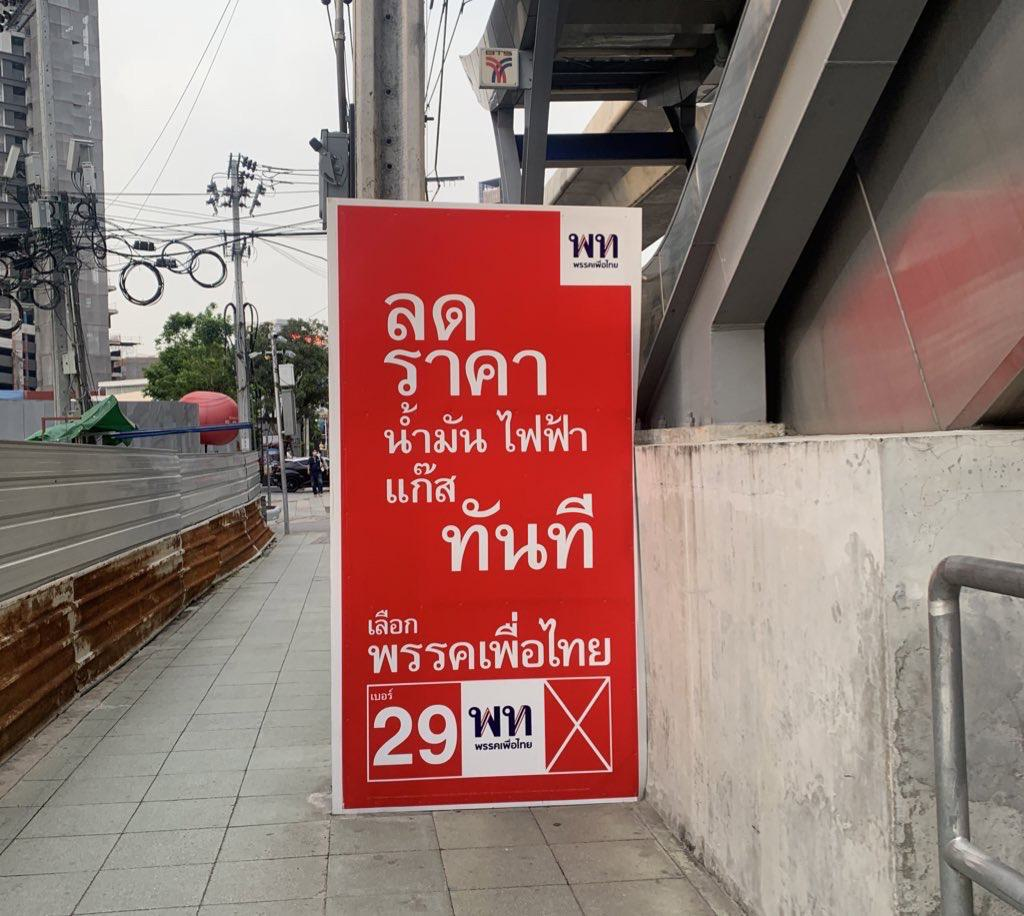Banner: (288, 158, 659, 830)
